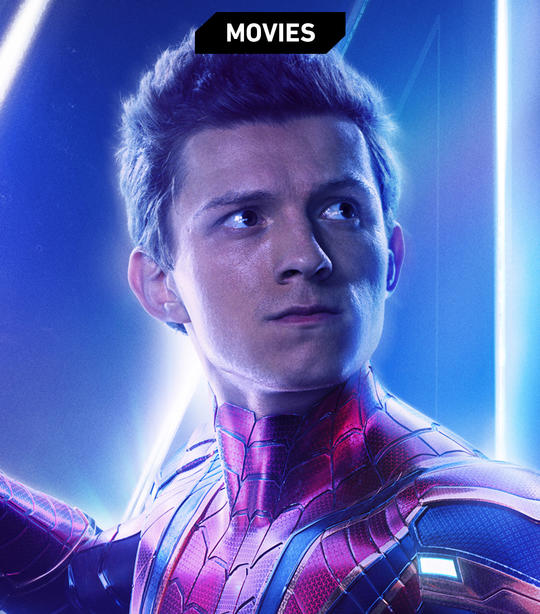bare: (161, 232, 388, 392)
